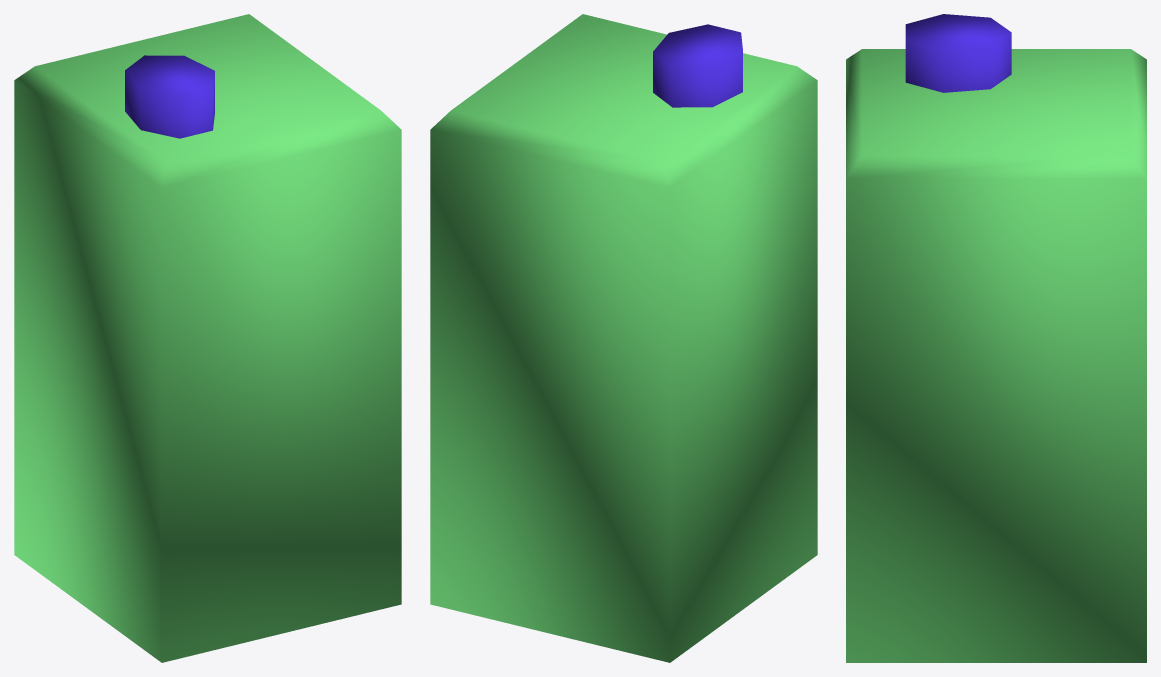
File: succo_pera_mini.fbx
3 renders of one model, left to right at view 1: azimuth 30°, elevation 25°; view 2: azimuth 150°, elevation 25°; view 3: azimuth 270°, elevation 25°, orthographic.
Parts seen in each view (by area): view 1: pera_mini; view 2: pera_mini; view 3: pera_mini.
Part boxes in pixels (<box>): pera_mini: <box>14,14,401,662</box>; pera_mini: <box>430,14,817,662</box>; pera_mini: <box>846,14,1146,662</box>.
Bounding box in the file's own units: 66.34 × 141 × 70.7.
